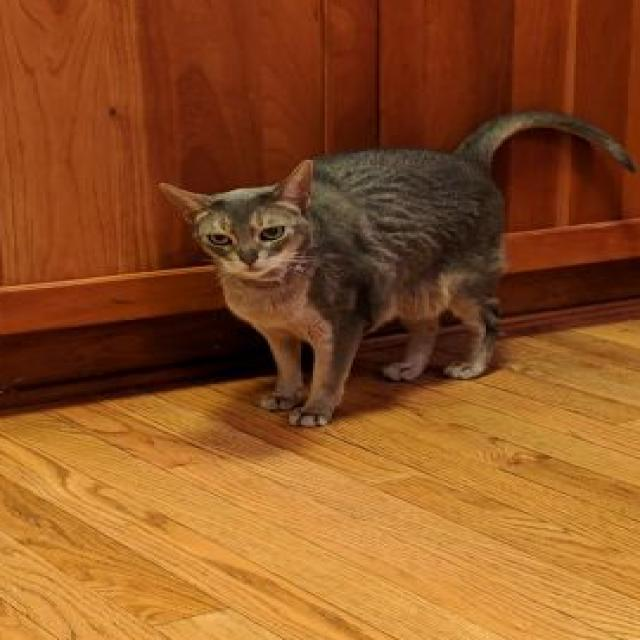Abyssinian: (144, 103, 640, 432)
